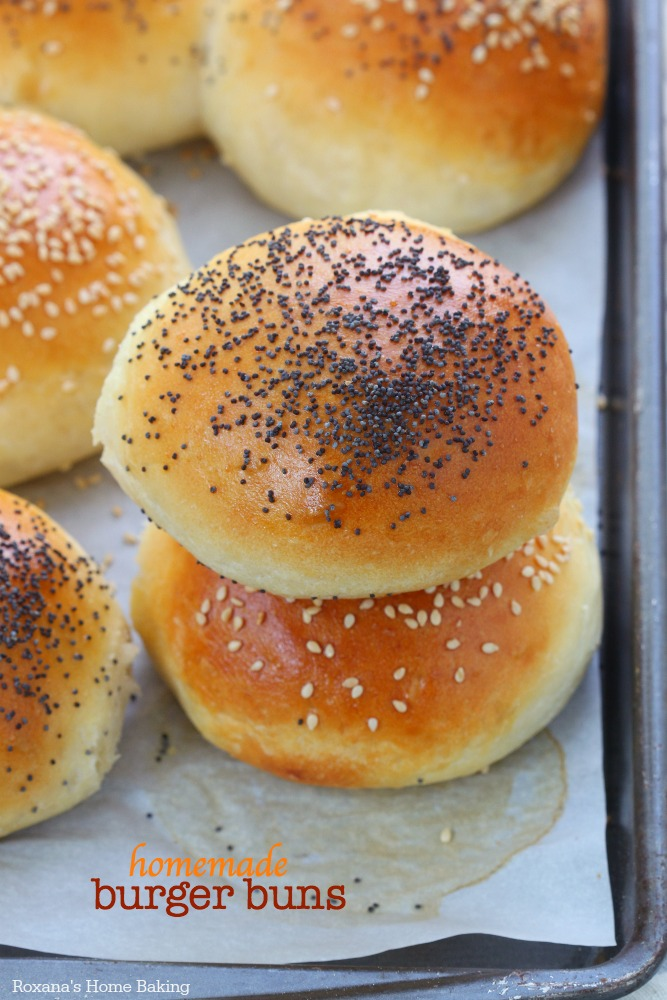hamburger_buns: (75, 499, 667, 813), (106, 201, 569, 602)
